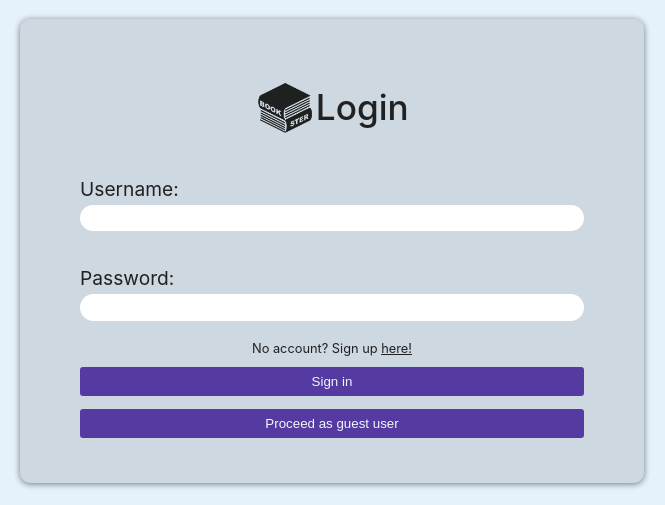
Test: Login failed with incorrect credentials
This screenshot has width=665, height=505.
Type "invaliduser" into the field labelled "Username:" at {"x": 332, "y": 218}, box [80, 205, 584, 231]
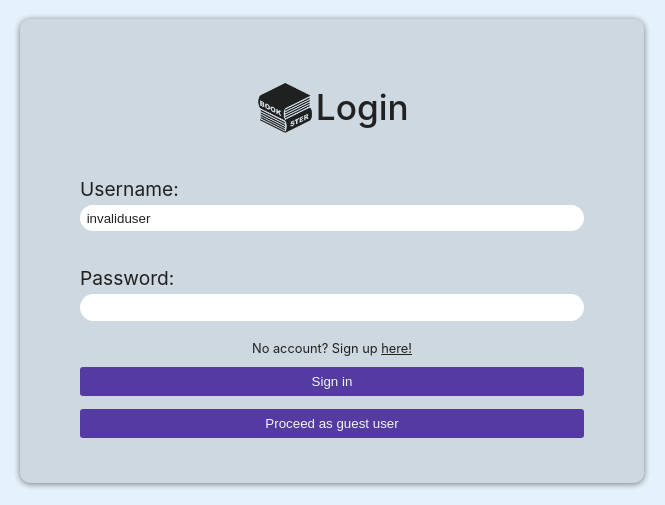
Type "invalidpassword" into the password field labelled "Password:" at {"x": 332, "y": 308}, box [80, 294, 584, 321]
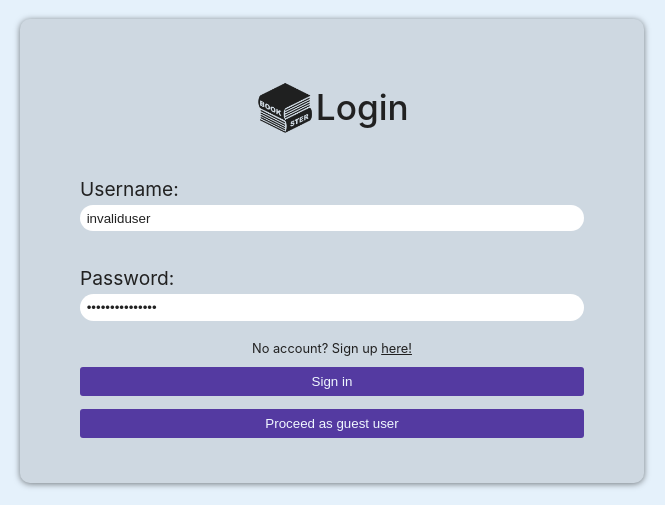
Click the button "Sign in" at {"x": 332, "y": 381}, box [80, 367, 584, 396]
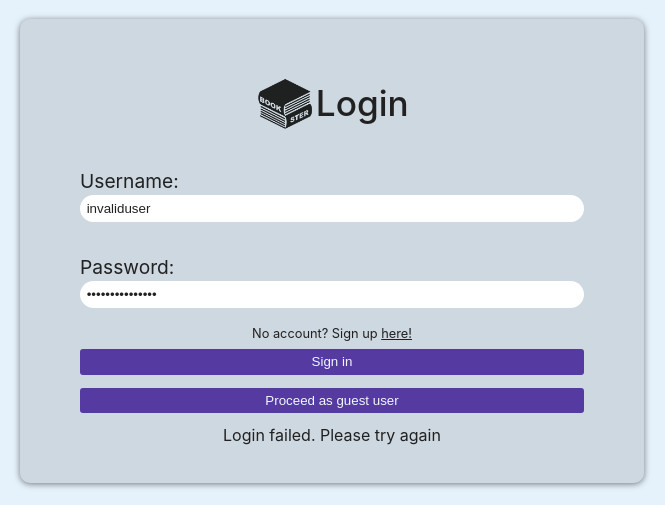
Now the text "Login failed. Please try again" is shown, box [223, 427, 441, 451]
